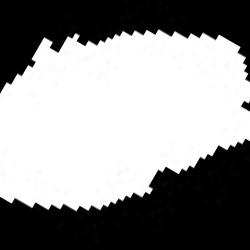spot: (3, 30, 250, 212)
